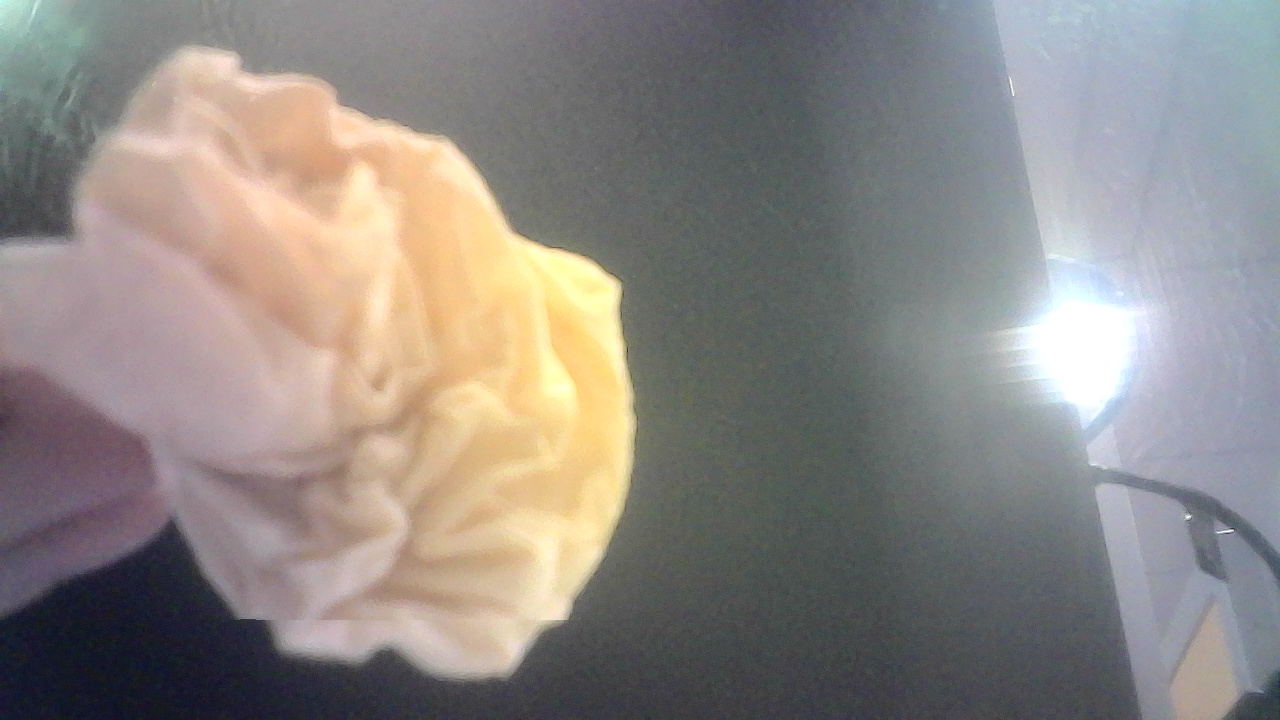Paper_Recycling: (6, 47, 643, 689)
